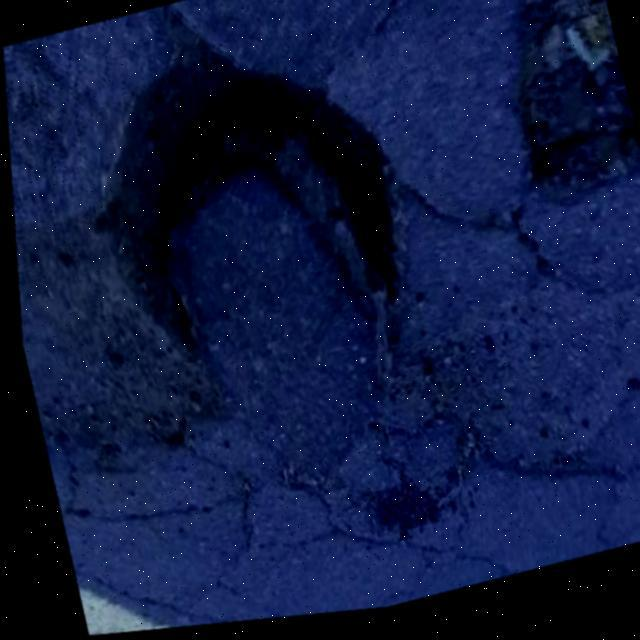pothole: (67, 7, 419, 386), (482, 0, 640, 210)
